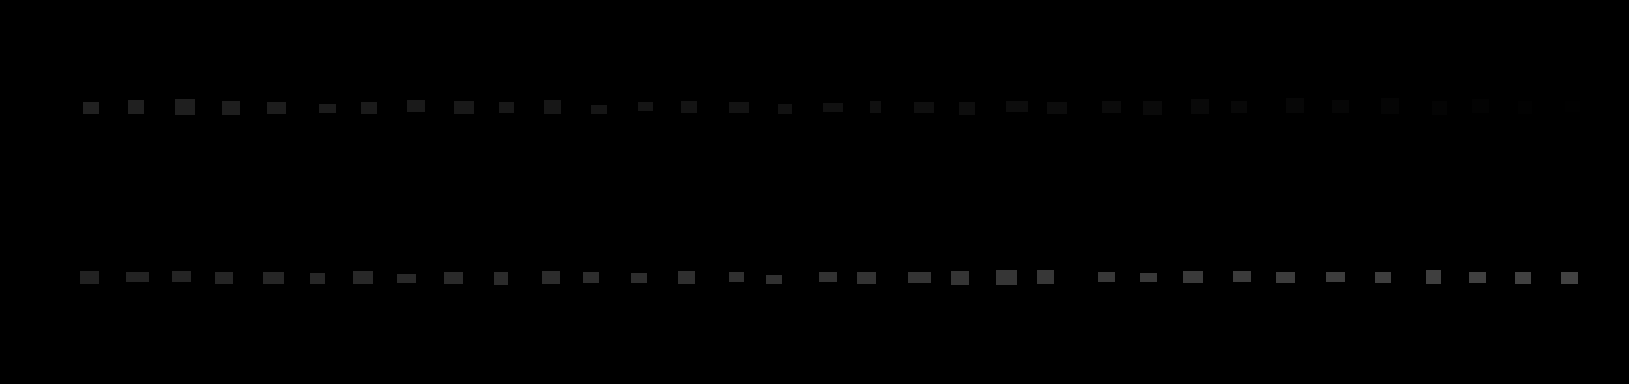light: (175, 99, 195, 115), (996, 270, 1017, 285), (1381, 98, 1399, 114), (1191, 99, 1209, 114), (1286, 98, 1304, 113), (1143, 101, 1161, 115), (951, 271, 969, 285), (454, 101, 474, 114), (353, 271, 373, 284), (1006, 101, 1029, 112), (908, 272, 931, 283), (263, 272, 284, 284), (222, 101, 240, 115), (1037, 270, 1054, 284), (80, 271, 99, 284), (1047, 102, 1067, 114), (444, 272, 463, 284), (1183, 271, 1203, 283), (1472, 99, 1489, 113), (544, 100, 561, 114), (128, 100, 144, 114), (542, 271, 560, 284), (126, 272, 149, 282), (1102, 101, 1121, 113), (267, 102, 286, 114), (857, 272, 876, 284), (1432, 101, 1447, 115), (914, 102, 934, 113), (729, 102, 749, 113), (1276, 272, 1296, 283), (1332, 100, 1348, 113), (678, 271, 695, 284), (407, 100, 425, 112), (215, 272, 233, 284), (172, 271, 191, 282), (1426, 270, 1441, 284), (959, 102, 974, 115), (680, 101, 697, 113), (360, 102, 377, 114), (1515, 272, 1531, 284), (1561, 272, 1578, 284), (1326, 272, 1345, 282), (1233, 271, 1251, 282), (1518, 101, 1532, 114), (1231, 101, 1247, 113), (83, 102, 99, 114), (819, 272, 837, 282), (583, 272, 599, 283), (1469, 272, 1486, 283), (823, 103, 843, 112), (495, 272, 508, 285), (1565, 101, 1580, 112), (499, 102, 514, 113), (310, 273, 325, 284), (1376, 272, 1391, 283), (397, 274, 416, 283), (631, 273, 647, 283), (1098, 272, 1115, 282), (1140, 273, 1157, 282), (319, 104, 336, 113), (766, 275, 782, 284), (729, 272, 744, 282), (638, 102, 653, 111), (591, 105, 607, 114), (870, 101, 881, 113), (778, 104, 792, 114)
